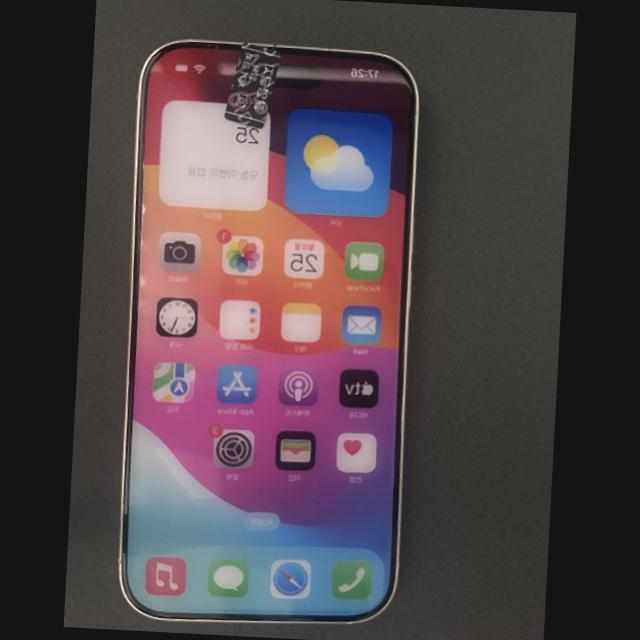phone: (120, 41, 417, 621)
sticker: (224, 43, 282, 129)
